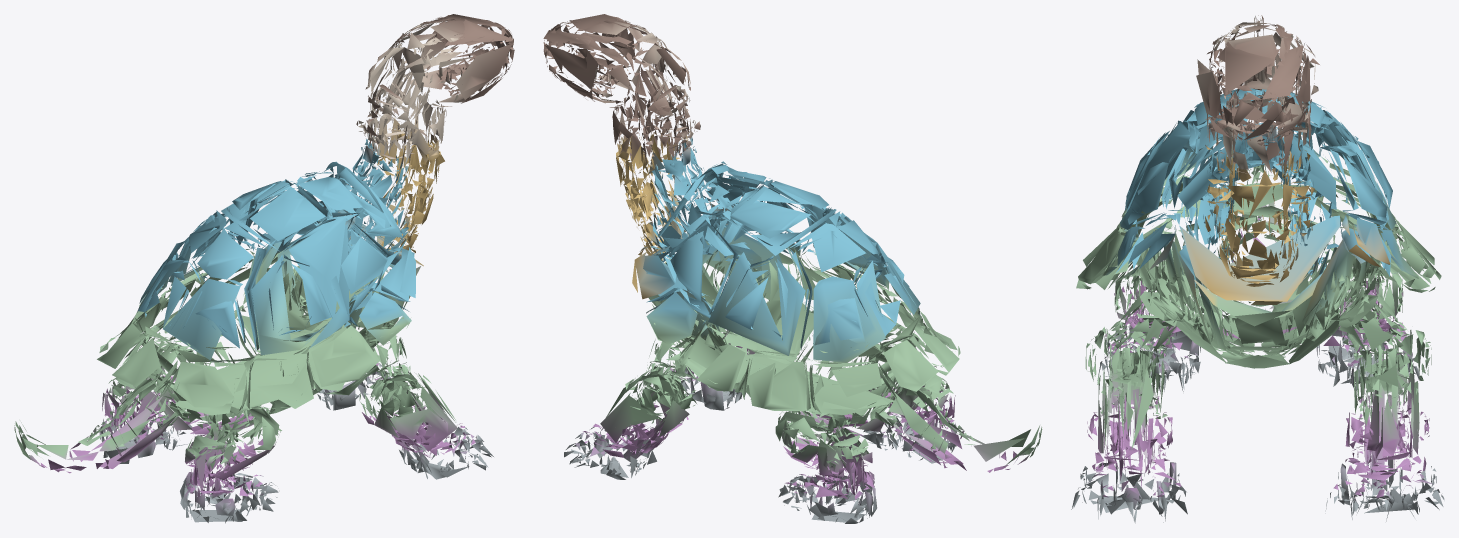
Rendered from statue_id_colored.glb.
The picture shows the model from 3 angles, left to right: view 1: azimuth 30°, elevation 25°; view 2: azimuth 150°, elevation 25°; view 3: azimuth 270°, elevation 25°; orthographic projection. The views are drawn at different scales.
Parts seen in each view (by area): view 1: Statue_ID_Mask; view 2: Statue_ID_Mask; view 3: Statue_ID_Mask.
Boxes of the visible parts, x1,y1,x2,y2 form: Statue_ID_Mask: [14, 14, 514, 523]; Statue_ID_Mask: [543, 14, 1042, 523]; Statue_ID_Mask: [1071, 15, 1444, 523].
Size of the model in its own units: 2.12 by 1.59 by 1.07.
